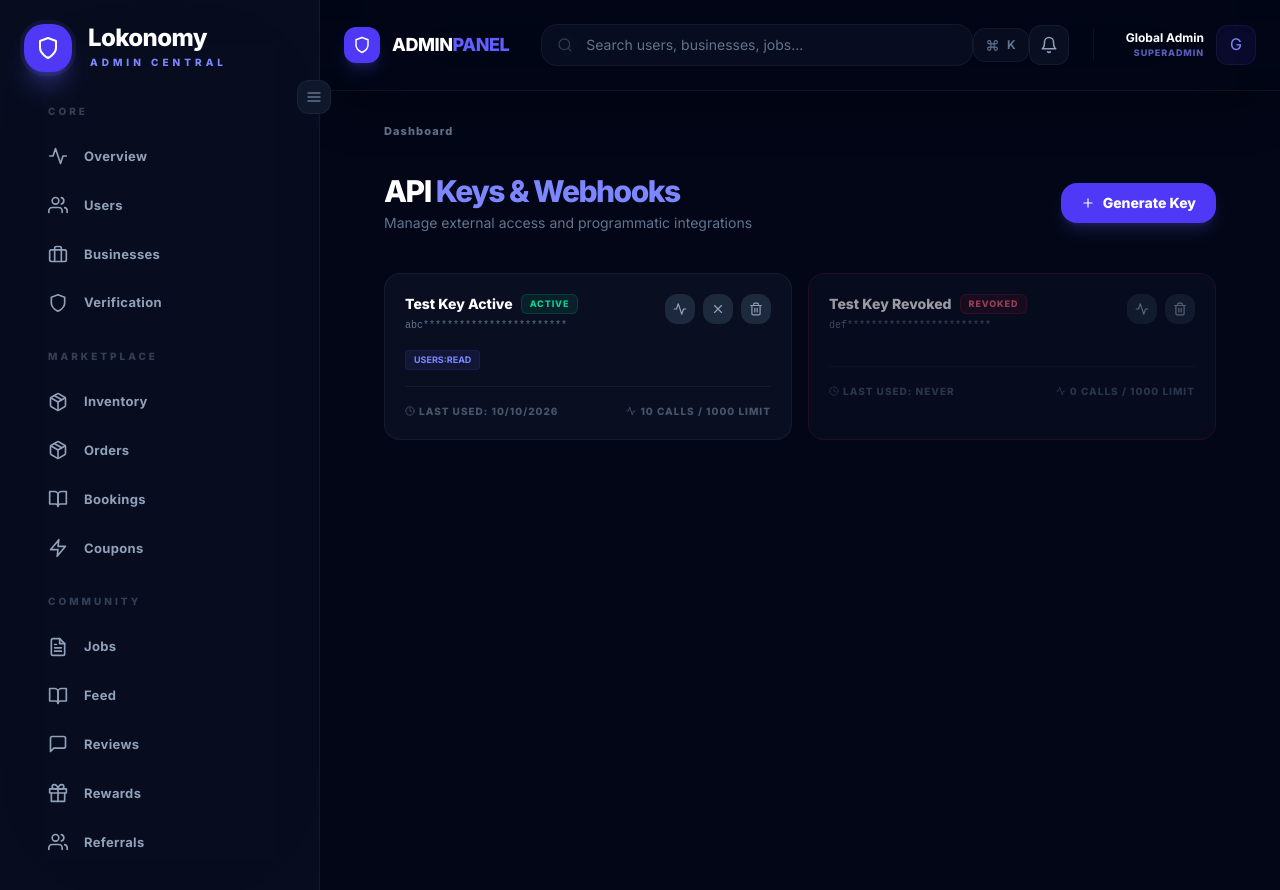
Test: AdminApiKeyManagement Component › views api key logs
Expected: the heading "Test Key Active" is shown, [405,294,513,314]
Step 1. Click the button titled "View Logs" in the row of "Test Key Active" → coordinates (680, 309), box [665,294,695,324]
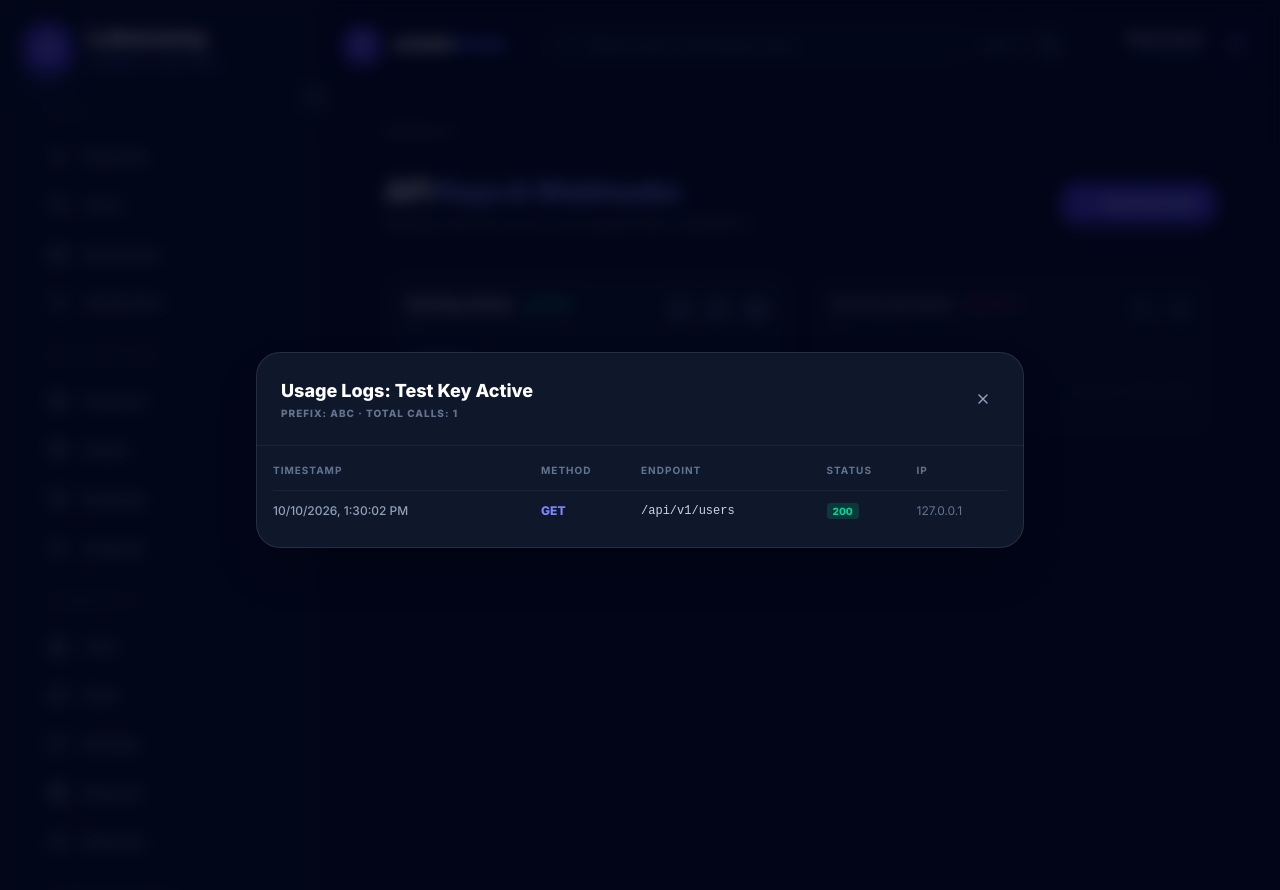
Expected: the heading "Usage Logs: Test Key Active" is shown, [281,377,533,405]
Expected: the text "/api/v1/users" is shown, [641,490,826,531]
Expected: the text "127.0.0.1" is shown, [916,490,1007,531]
